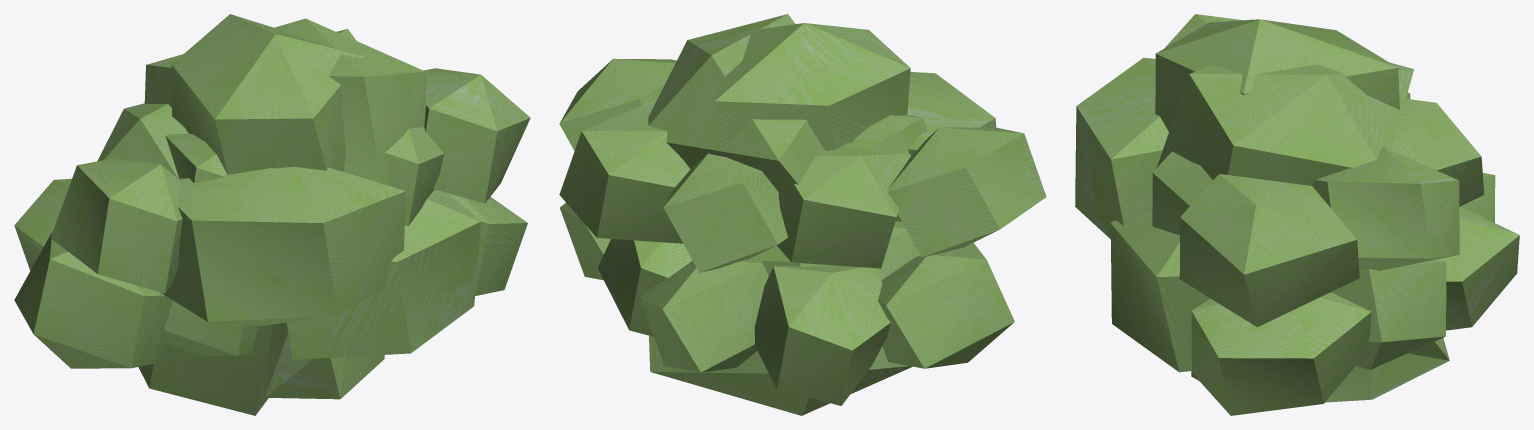
Rendered from Bush_Large_03.fbx.
3 renders of one model, left to right at view 1: azimuth 30°, elevation 25°; view 2: azimuth 150°, elevation 25°; view 3: azimuth 270°, elevation 25°, orthographic. The views are drawn at different scales.
Visible parts, largest first — view 1: Model; view 2: Model; view 3: Model.
Part boxes in pixels (bbox=[...]): Model: bbox=[14, 14, 530, 415]; Model: bbox=[559, 14, 1046, 415]; Model: bbox=[1075, 14, 1519, 415].
Size of the model in its own units: 530 by 385 by 432.
